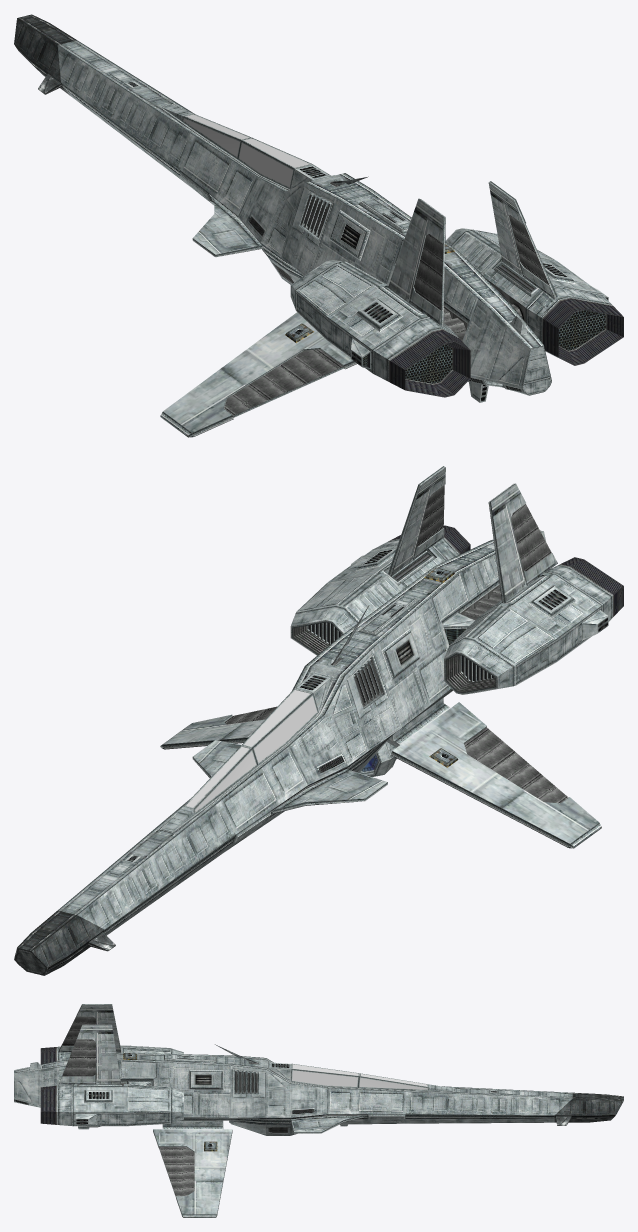
File: Scimitar2.fbx
3 renders of one model, top to bottom at view 1: azimuth 30°, elevation 25°; view 2: azimuth 150°, elevation 25°; view 3: azimuth 270°, elevation 25°, orthographic. The views are drawn at different scales.
Visible parts, largest first — view 1: Scimitar2_hull1, Scimitar2_equip, Scimitar2_wing.1, Scimitar2_hull2, Scimitar2_grill, Scimitar2_hullblack, Scimitar2_glass; view 2: Scimitar2_hull1, Scimitar2_wing.1, Scimitar2_hull2, Scimitar2_equip, Scimitar2_hullblack, Scimitar2_glass; view 3: Scimitar2_hull1, Scimitar2_wing.1, Scimitar2_hull2, Scimitar2_hullblack, Scimitar2_glass, Scimitar2_equip.
Boxes of the visible parts, box(x1,y1,x2,y2) form: Scimitar2_hull1: box(57, 40, 612, 437); Scimitar2_equip: box(273, 180, 623, 397); Scimitar2_wing.1: box(224, 215, 549, 415); Scimitar2_hull2: box(332, 177, 554, 324); Scimitar2_grill: box(363, 310, 605, 383); Scimitar2_hullblack: box(14, 14, 76, 95); Scimitar2_glass: box(183, 114, 309, 186); Scimitar2_hull1: box(58, 466, 612, 935); Scimitar2_wing.1: box(224, 485, 568, 803); Scimitar2_hull2: box(333, 467, 557, 663); Scimitar2_equip: box(293, 525, 623, 706); Scimitar2_hullblack: box(14, 910, 115, 975); Scimitar2_glass: box(186, 690, 316, 811); Scimitar2_hull1: box(14, 1004, 572, 1217); Scimitar2_wing.1: box(62, 1016, 194, 1196); Scimitar2_hull2: box(59, 1005, 256, 1084); Scimitar2_hullblack: box(554, 1092, 623, 1125); Scimitar2_glass: box(292, 1064, 427, 1089); Scimitar2_equip: box(40, 1044, 287, 1133).
Size of the model in its own units: 171 by 95.17 by 367.
Materials: 13 (13 with a texture image).
